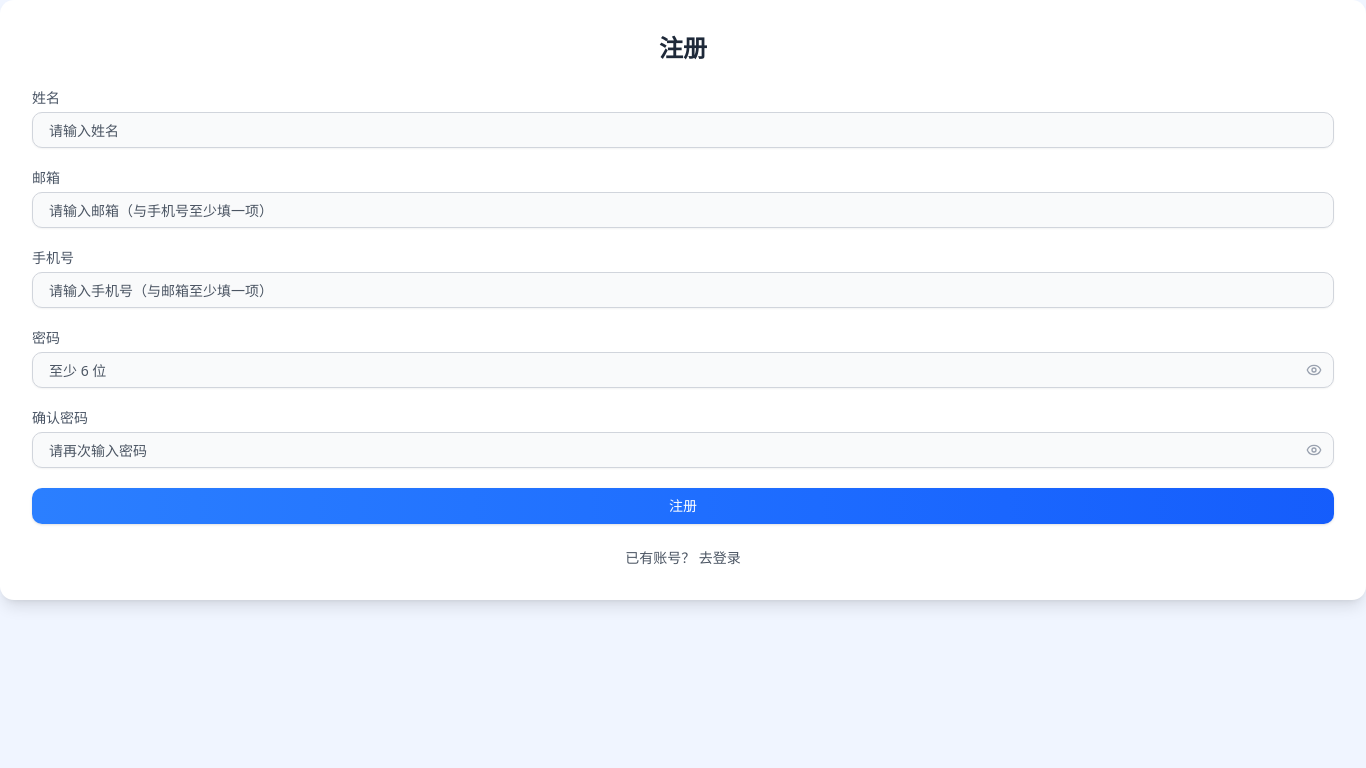
Test: RegisterForm › shows name validation on empty submit
Click the button "注册".
click(683, 506)  # box [32,488,1334,524]
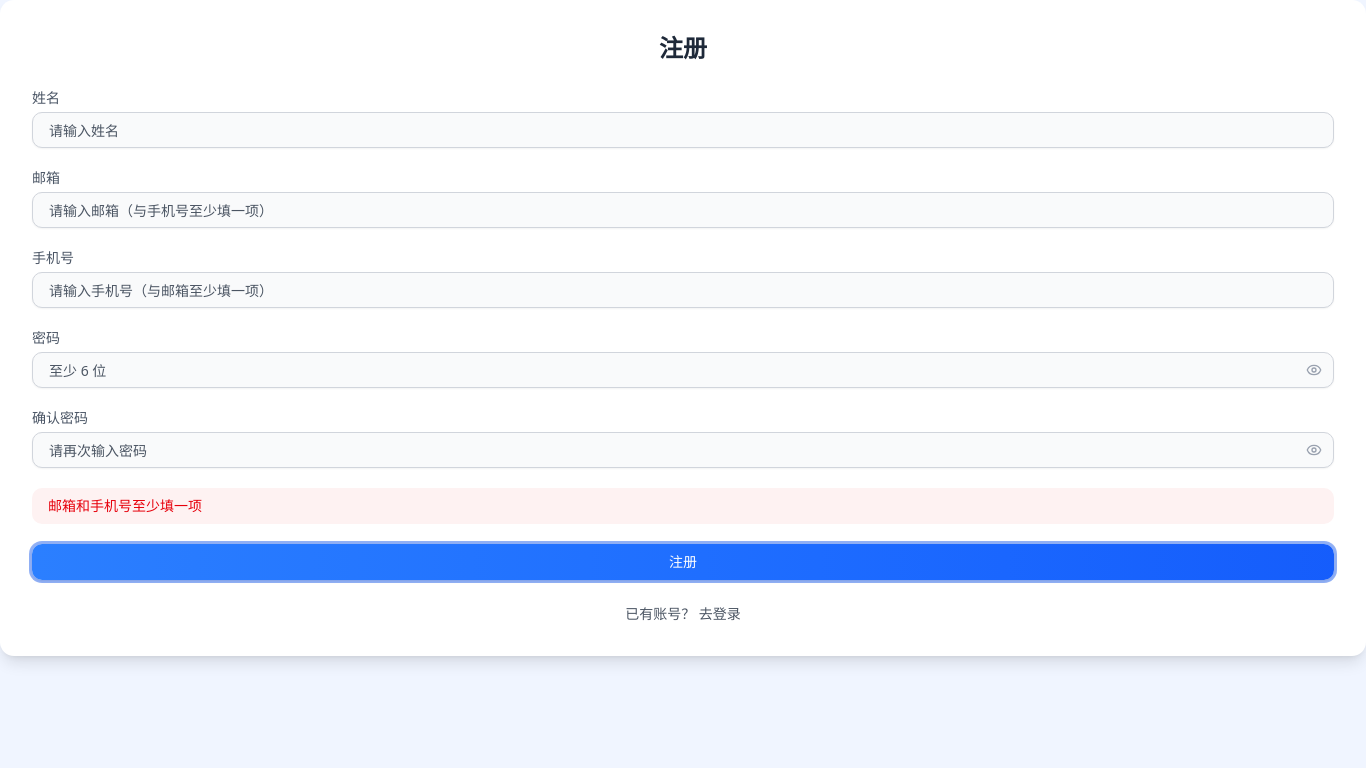
Expected: the text "邮箱和手机号至少填一项" is shown, [32,488,1334,524]
